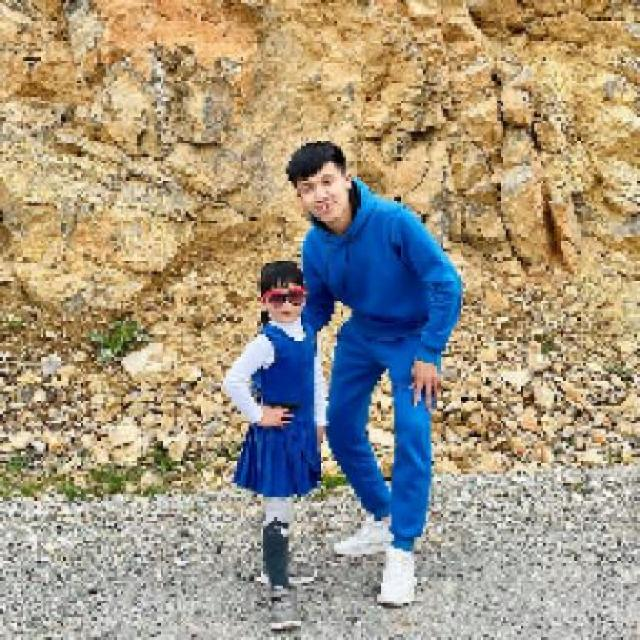child: (220, 257, 329, 629)
